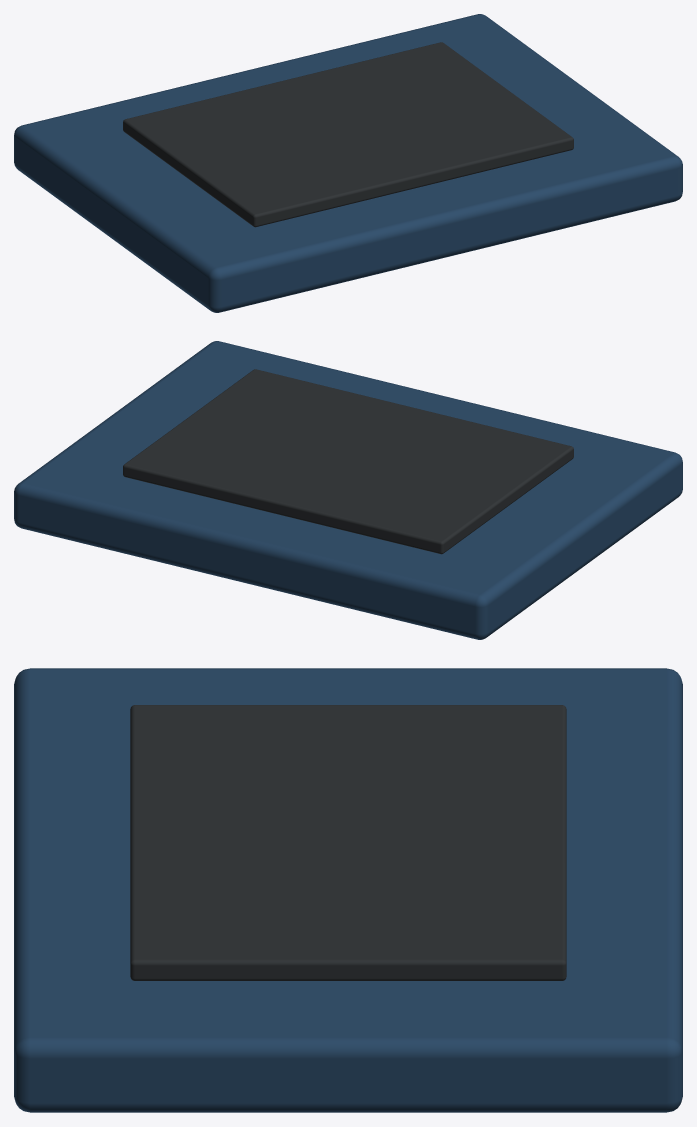
The model's file is rowing-boathouse-and-regatta-course-training-seat-pad-973968ea__32155.glb.
The picture shows the model from 3 angles, top to bottom: view 1: azimuth 30°, elevation 25°; view 2: azimuth 150°, elevation 25°; view 3: azimuth 270°, elevation 25°; orthographic projection. The views are drawn at different scales.
Visible parts, largest first — view 1: training-seat-pad; view 2: training-seat-pad; view 3: training-seat-pad.
Part boxes in pixels (x1,y1,x2,y2): training-seat-pad: (14, 14, 682, 312); training-seat-pad: (14, 341, 682, 639); training-seat-pad: (14, 668, 682, 1112).
Size of the model in its own units: 0.31 by 0.036 by 0.23.
